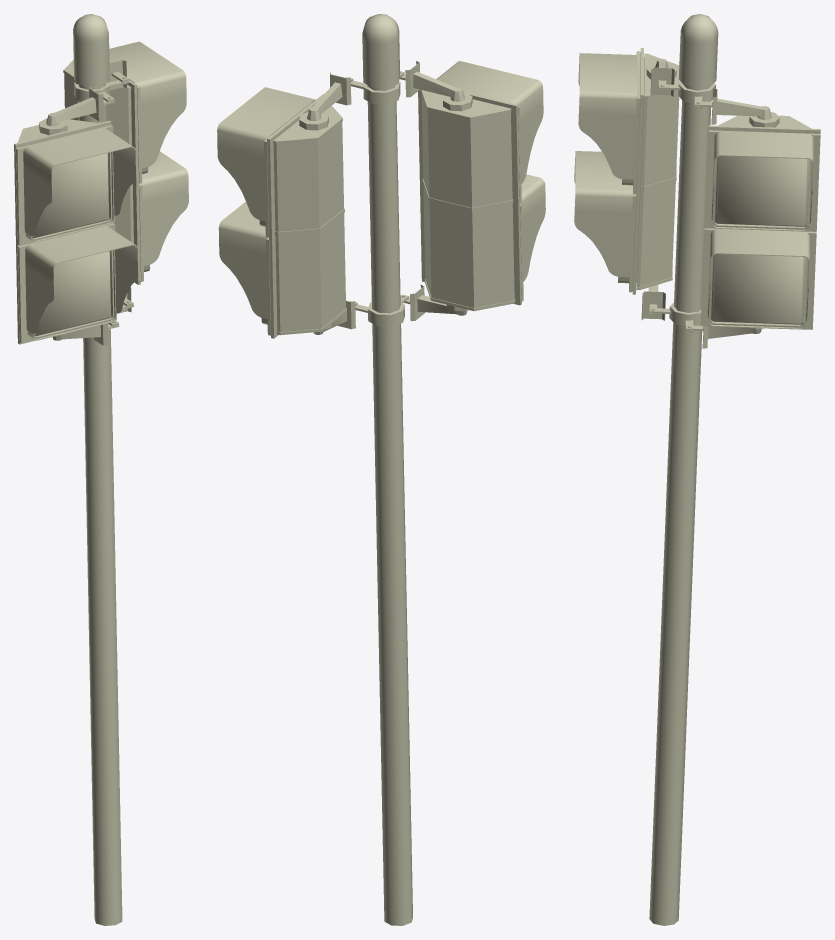
The model's file is 行人紅綠燈.FBX.
3 views of the same model, side by side, from view 1: azimuth 30°, elevation 25°; view 2: azimuth 150°, elevation 25°; view 3: azimuth 270°, elevation 25° (orthographic). The views are drawn at different scales.
Parts seen in each view (by area): view 1: 广告牌012ok; view 2: 广告牌012ok; view 3: 广告牌012ok.
Part boxes in pixels (x1,y1,x2,y2): 广告牌012ok: (14, 14, 188, 925); 广告牌012ok: (217, 14, 545, 925); 广告牌012ok: (574, 14, 820, 925).
Size of the model in its own units: 92.81 by 382 by 94.23.
